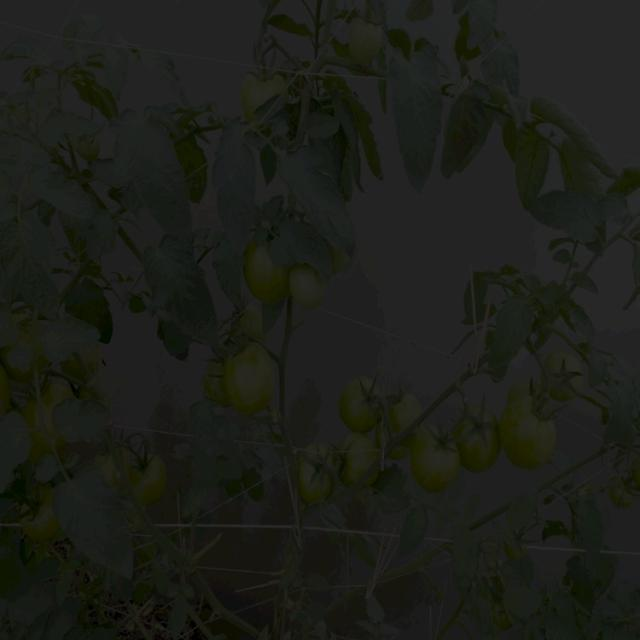tomato: (500, 399, 562, 473), (227, 344, 279, 414), (412, 428, 467, 492), (458, 407, 505, 475), (341, 375, 387, 431), (297, 437, 333, 506), (246, 250, 286, 309), (541, 348, 586, 400), (335, 435, 384, 482), (348, 16, 382, 81), (25, 486, 64, 541), (136, 448, 173, 504), (280, 266, 325, 307), (241, 70, 292, 102), (206, 348, 233, 404), (387, 391, 424, 424), (508, 376, 545, 406), (45, 381, 81, 404), (613, 475, 634, 512), (79, 132, 101, 160), (105, 459, 128, 483)
